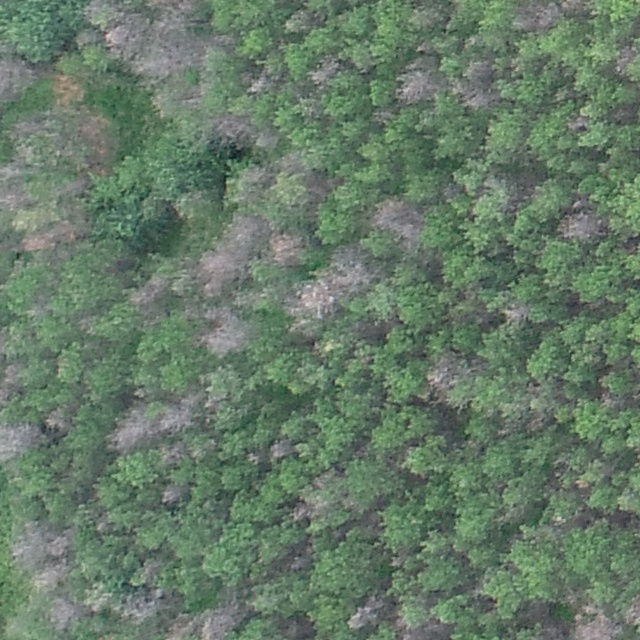unhealthy: (195, 214, 261, 296), (131, 18, 201, 82), (310, 239, 372, 295), (7, 515, 75, 562), (197, 305, 251, 358), (367, 197, 424, 238), (108, 405, 152, 453), (198, 598, 244, 640), (553, 208, 606, 243), (394, 66, 440, 105), (17, 220, 83, 247), (0, 419, 40, 461), (0, 52, 32, 104), (117, 589, 163, 625), (283, 287, 333, 320), (92, 15, 131, 57), (511, 1, 561, 33), (424, 350, 460, 394), (211, 111, 253, 148), (78, 110, 113, 154), (157, 398, 197, 436), (572, 608, 619, 640), (127, 274, 169, 309), (348, 594, 388, 630), (268, 231, 306, 268), (45, 595, 80, 632), (31, 560, 71, 591), (452, 84, 494, 113), (308, 53, 343, 87), (393, 620, 451, 639), (9, 114, 47, 142), (234, 164, 273, 191), (0, 360, 22, 407), (612, 42, 639, 78), (289, 497, 326, 522), (165, 612, 198, 639), (41, 407, 74, 433), (54, 175, 89, 199), (461, 58, 493, 82), (157, 439, 186, 465), (0, 185, 30, 210), (0, 157, 27, 182), (254, 127, 281, 152), (242, 71, 269, 96), (158, 482, 185, 506), (266, 438, 293, 461), (610, 102, 637, 124), (503, 301, 531, 322), (537, 620, 567, 639), (624, 591, 639, 629), (369, 106, 395, 126), (599, 390, 625, 410), (524, 413, 547, 435), (565, 113, 589, 133), (555, 0, 589, 12)
